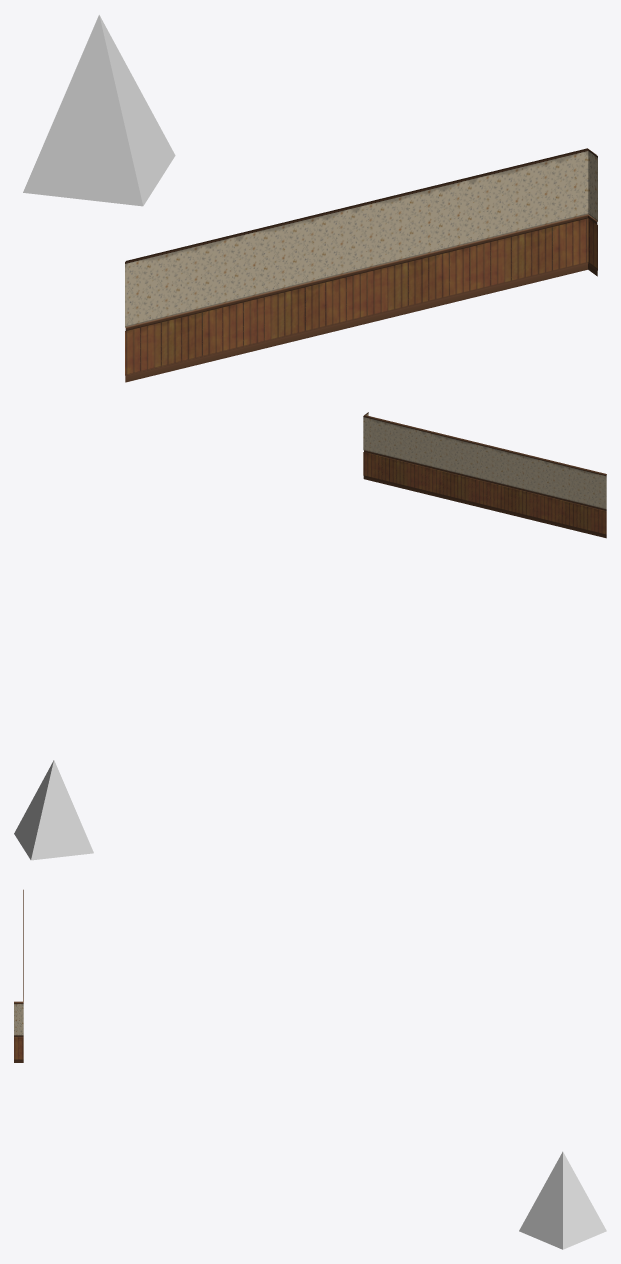
File: SM_floor2_Hall_02.fbx
3 renders of one model, top to bottom at view 1: azimuth 30°, elevation 25°; view 2: azimuth 150°, elevation 25°; view 3: azimuth 270°, elevation 25°, orthographic. The views are drawn at different scales.
Parts seen in each view (by area): view 1: Trim_Wall2ndfloor.002, SM_referemcepoint; view 2: Trim_Wall2ndfloor.002, SM_referemcepoint; view 3: SM_referemcepoint, Trim_Wall2ndfloor.002.
Boxes of the visible parts, box(x1,y1,x2,y2) form: Trim_Wall2ndfloor.002: box(125, 148, 597, 382); SM_referemcepoint: box(23, 15, 175, 206); Trim_Wall2ndfloor.002: box(363, 412, 606, 538); SM_referemcepoint: box(14, 760, 93, 860); SM_referemcepoint: box(519, 1151, 606, 1249); Trim_Wall2ndfloor.002: box(14, 889, 23, 1062).
Size of the model in its own units: 1325 by 2309 by 932.
